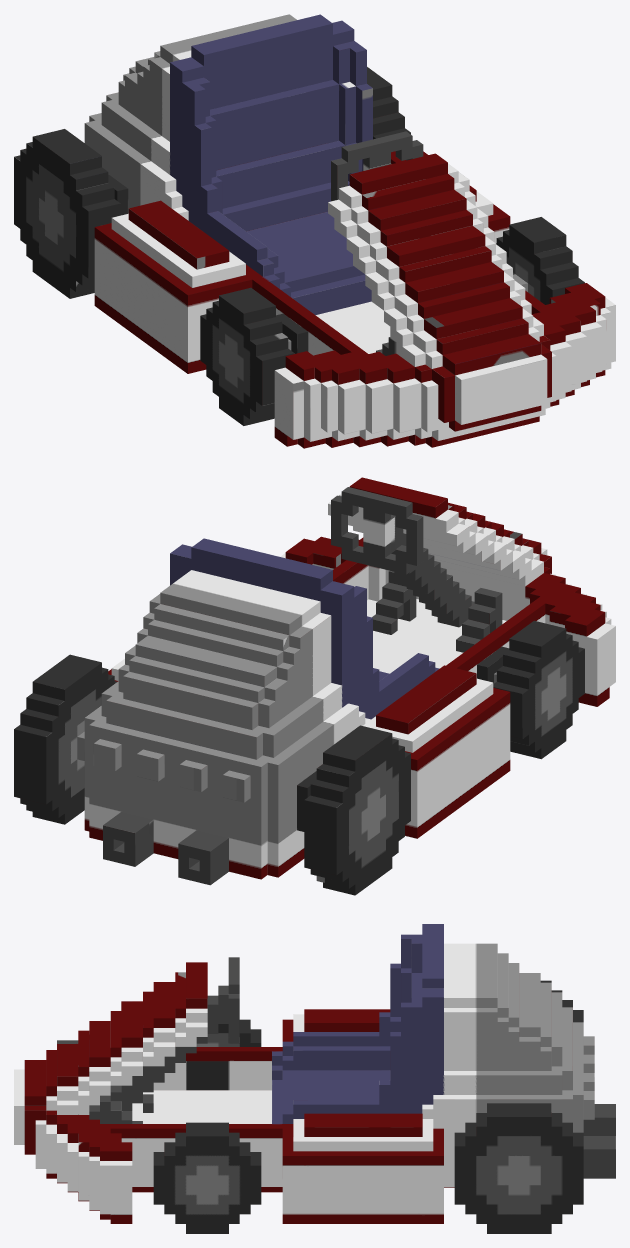
File: Kart.fbx
The picture shows the model from 3 angles, top to bottom: view 1: azimuth 30°, elevation 25°; view 2: azimuth 150°, elevation 25°; view 3: azimuth 270°, elevation 25°; orthographic projection. The views are drawn at different scales.
Parts seen in each view (by area): view 1: KartBody, KartWheelBR, KartWheelFR, KartWheelFL, KartSteering, KartWheelBL; view 2: KartBody, KartWheelBR, KartWheelBL, KartWheelFR, KartSteering; view 3: KartBody, KartWheelBL, KartWheelFL, KartSteering, KartWheelFR.
Boxes of the visible parts, <box> form: KartBody: <box>84,14,615,448</box>; KartWheelBR: <box>14,129,120,298</box>; KartWheelFR: <box>200,287,294,425</box>; KartWheelFL: <box>496,217,584,304</box>; KartSteering: <box>331,131,423,201</box>; KartWheelBL: <box>367,67,410,139</box>; KartBody: <box>77,477,615,885</box>; KartWheelBR: <box>304,725,410,895</box>; KartWheelBL: <box>14,654,117,824</box>; KartWheelFR: <box>493,620,584,759</box>; KartSteering: <box>331,487,423,574</box>; KartBody: <box>14,924,615,1223</box>; KartWheelBL: <box>454,1103,583,1233</box>; KartWheelFL: <box>153,1122,261,1233</box>; KartSteering: <box>228,957,239,1042</box>; KartWheelFR: <box>196,1019,261,1046</box>.
Bounding box in the file's own units: 75 × 140 × 55.
